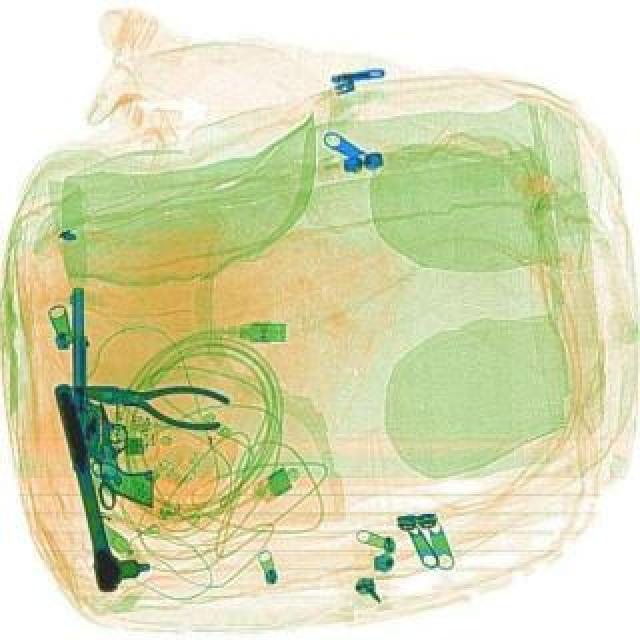gun: (68, 286, 108, 458), (98, 406, 154, 506)
wrench: (70, 364, 230, 436)
